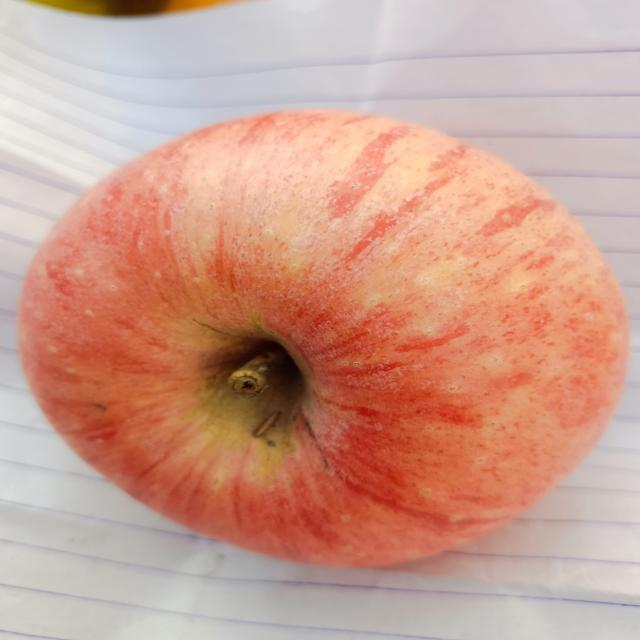Fresh Apple: (30, 120, 640, 593)
